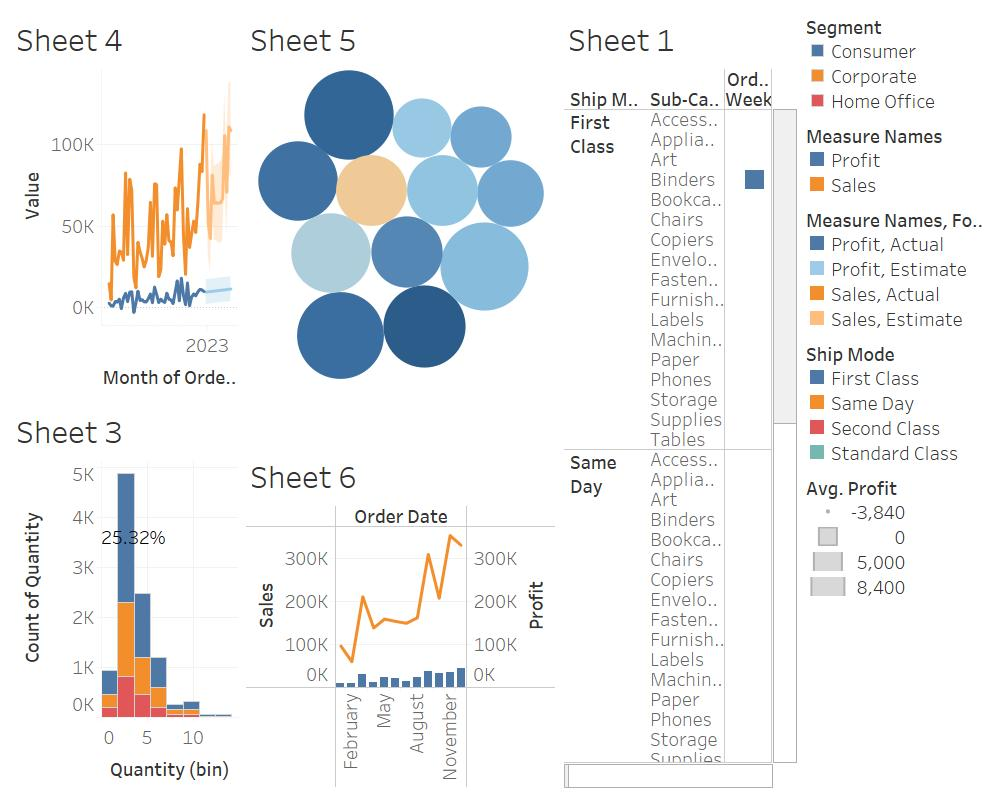

Layout of this report page (visuals, bound fields, positions):
{"tool":"tableau","page":{"name":"Dashboard 1","canvas":[1000,800],"ordinal":0},"visuals":[{"type":"worksheet","title":"Sheet 4","mark":"Automatic","cols":["Order Date"],"box":[8,8,233.9,392]},{"type":"worksheet","title":"Sheet 5","mark":"Circle","box":[241.9,8,318.1,437]},{"type":"worksheet","title":"Sheet 1","mark":"Automatic","rows":["Ship Mode","Sub-Category"],"cols":["Order Date"],"box":[560,8,241,784]},{"type":"legend","title":"Sheet 3","param":"[Sample - Superstore].[none:Segment:nk]","box":[801,8,191,109]},{"type":"legend","title":"Sheet 6","param":"[Sample - Superstore].[:Measure Names]","box":[801,117,191,84]},{"type":"legend","title":"Sheet 4","param":"[Sample - Superstore].[:Measure Names]\n[Sample - Superstore].[none:Forecast Indi","box":[801,201,191,134]},{"type":"legend","title":"Sheet 1","param":"[Sample - Superstore].[none:Ship Mode:nk]","box":[801,335,191,134]},{"type":"worksheet","title":"Sheet 3","mark":"Automatic","rows":["Quantity"],"cols":["Quantity (bin)"],"box":[8,400,233.9,392]},{"type":"worksheet","title":"Sheet 6","mark":"Automatic","rows":["Sales","Profit"],"cols":["Order Date"],"box":[241.9,445,318.1,347]},{"type":"legend","title":"Sheet 1","param":"[Sample - Superstore].[avg:Profit:qk]","box":[801,469,191,134]}]}

Visuals, with their boxes in screenshot pixels (x1, y1, x2, y2), scaled from the page's 1000x800 canvas onto the 1000x800 screenshot:
"Sheet 4" worksheet: box(8, 8, 242, 400)
"Sheet 5" worksheet (Circle marks): box(242, 8, 560, 445)
"Sheet 1" worksheet: box(560, 8, 801, 792)
"Sheet 3" legend: box(801, 8, 992, 117)
"Sheet 6" legend: box(801, 117, 992, 201)
"Sheet 4" legend: box(801, 201, 992, 335)
"Sheet 1" legend: box(801, 335, 992, 469)
"Sheet 3" worksheet: box(8, 400, 242, 792)
"Sheet 6" worksheet: box(242, 445, 560, 792)
"Sheet 1" legend: box(801, 469, 992, 603)
